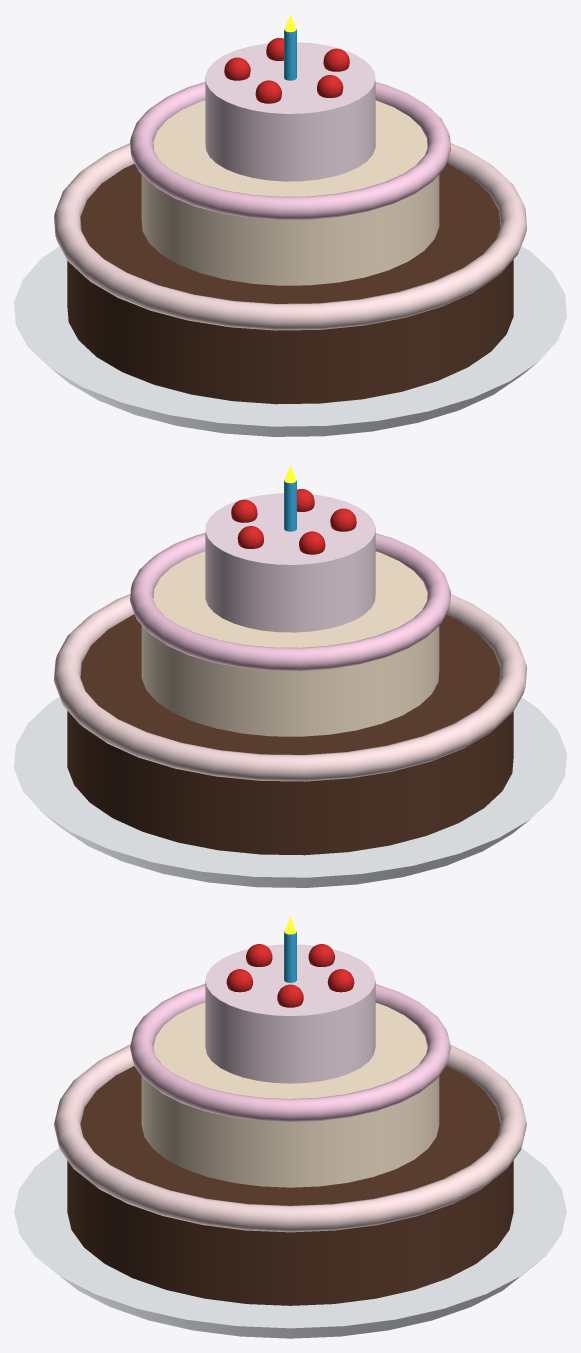
File: cake.glb
3 renders of one model, top to bottom at view 1: azimuth 30°, elevation 25°; view 2: azimuth 150°, elevation 25°; view 3: azimuth 270°, elevation 25°, orthographic.
Visible parts, largest first — view 1: BirthdayCake; view 2: BirthdayCake; view 3: BirthdayCake.
Boxes of the visible parts, x1,y1,x2,y2 form: BirthdayCake: (14,14,566,436); BirthdayCake: (14,465,566,887); BirthdayCake: (14,916,566,1338).
Size of the model in its own units: 1.04 by 0.6525 by 1.04.
